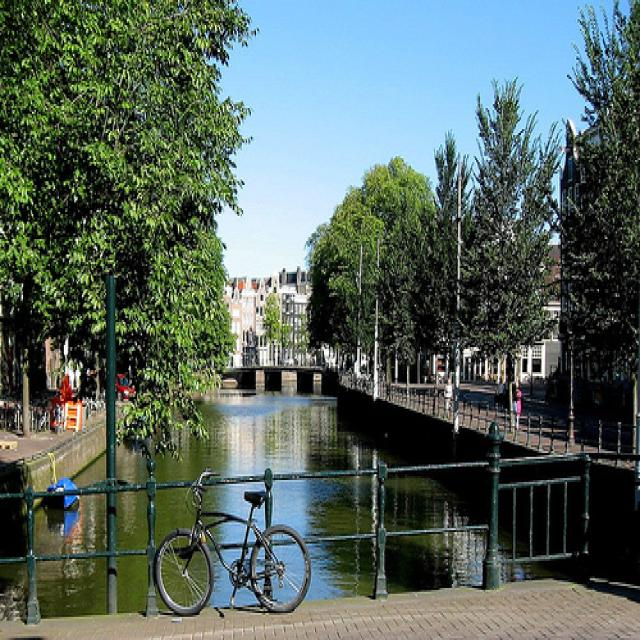bicycle: (149, 467, 316, 620)
car: (115, 373, 138, 402)
